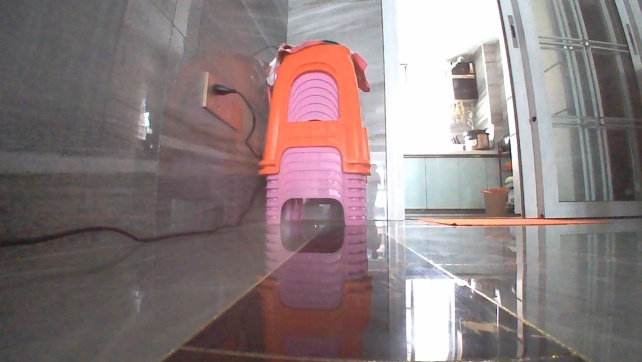blanket: (422, 214, 617, 227)
cupboard: (400, 146, 509, 216)
wire: (0, 181, 265, 250), (211, 81, 260, 157)
